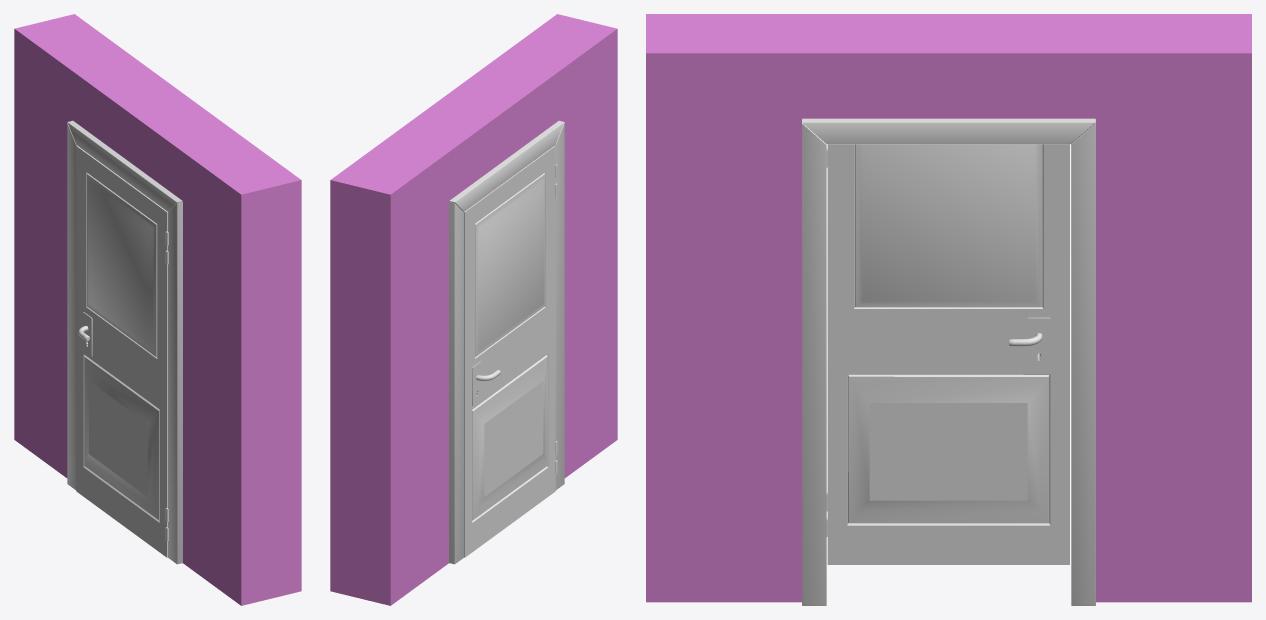
Rendered from DOORS_Model.fbx.
3 views of the same model, side by side, from view 1: azimuth 30°, elevation 25°; view 2: azimuth 150°, elevation 25°; view 3: azimuth 270°, elevation 25° (orthographic). The views are drawn at different scales.
Visible parts, largest first — view 1: Plane, Torus.001, Plane.002; view 2: Plane, Torus.001, Plane.002; view 3: Plane, Torus.001, Plane.002.
Part boxes in pixels (x1,y1,x2,y2): Plane: (14,14,301,605); Torus.001: (76,146,167,557); Plane.002: (67,120,182,564); Plane: (330,14,617,605); Torus.001: (464,145,555,557); Plane.002: (449,120,564,564); Plane: (646,14,1251,602); Torus.001: (827,144,1069,564); Plane.002: (802,118,1095,605).
Size of the model in its own units: 0.5453 by 2.5 by 2.5.
